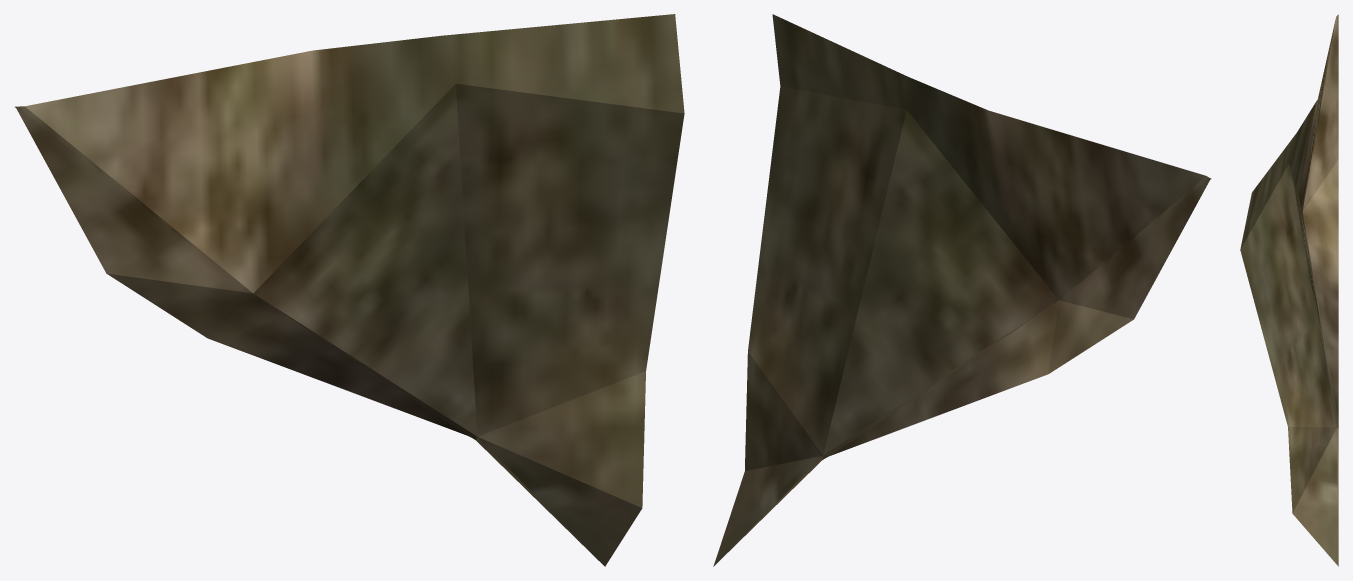
3 renders of one model, left to right at view 1: azimuth 30°, elevation 25°; view 2: azimuth 150°, elevation 25°; view 3: azimuth 270°, elevation 25°, orthographic. The views are drawn at different scales.
Bounding box in the file's own units: 0.7468 × 0.73 × 0.174.
Materials: 1 (1 with a texture image).
